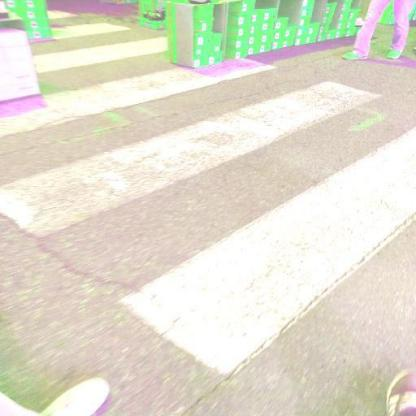crosswalk: (0, 71, 416, 380)
